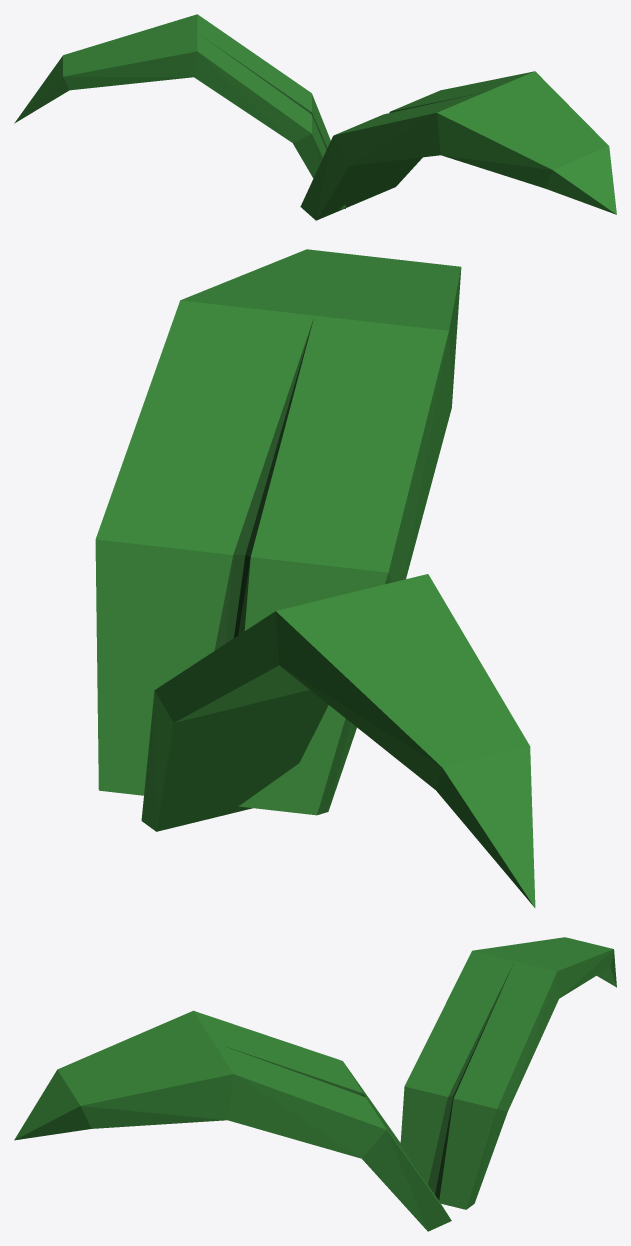
File: Plant_A_01.FBX
The picture shows the model from 3 angles, top to bottom: view 1: azimuth 30°, elevation 25°; view 2: azimuth 150°, elevation 25°; view 3: azimuth 270°, elevation 25°; orthographic projection. The views are drawn at different scales.
Parts seen in each view (by area): view 1: Plant_A_01; view 2: Plant_A_01; view 3: Plant_A_01.
Boxes of the visible parts, x1,y1,x2,y2 form: Plant_A_01: (14,14,616,220); Plant_A_01: (95,249,535,907); Plant_A_01: (14,937,616,1231).
Size of the model in its own units: 1.23 by 0.5521 by 1.62.
